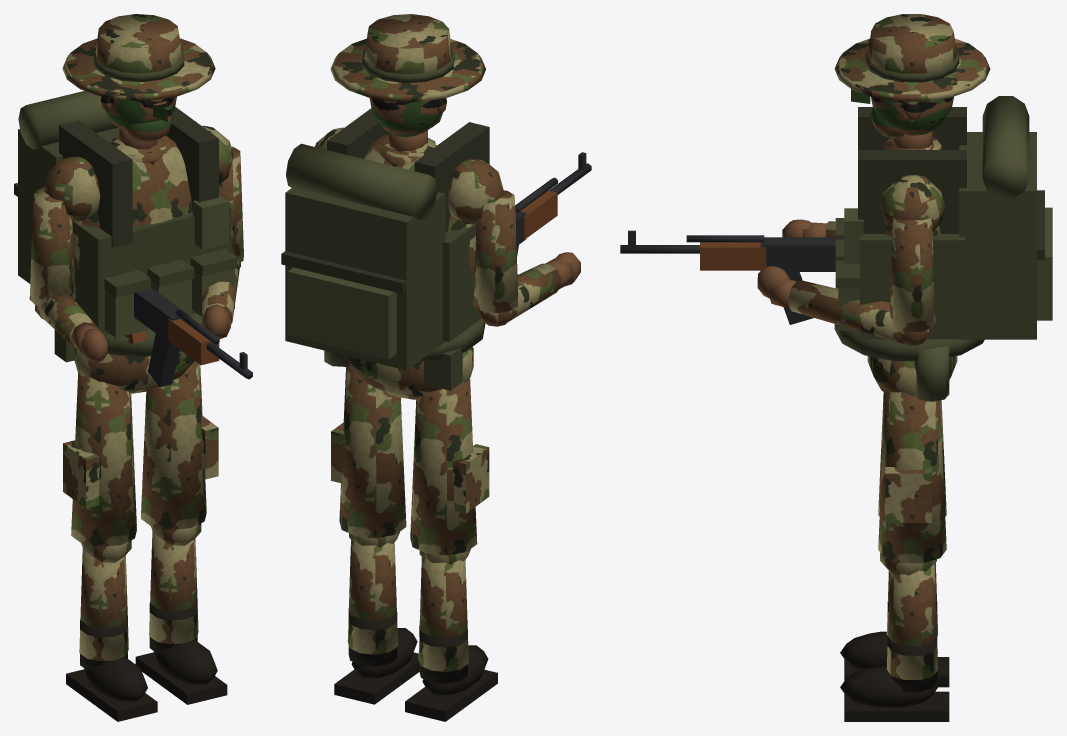
Rendered from soldier_sf.glb.
3 views of the same model, side by side, from view 1: azimuth 30°, elevation 25°; view 2: azimuth 150°, elevation 25°; view 3: azimuth 270°, elevation 25° (orthographic).
Parts seen in each view (by area): view 1: Torso, LegR, LegL, Head, ArmR, Rifle, Pelvis, ArmL; view 2: Torso, LegR, LegL, Head, ArmR, Pelvis, Rifle; view 3: Torso, LegL, Head, ArmL, Rifle, Pelvis, LegR, ArmR.
Part boxes in pixels (box(x1,y1,x2,y2)): Torso: box(14, 91, 237, 337); LegR: box(63, 372, 157, 721); LegL: box(135, 361, 227, 704); Head: box(62, 14, 215, 142); ArmR: box(29, 187, 107, 362); Rifle: box(125, 287, 252, 387); Pelvis: box(54, 313, 202, 393); ArmL: box(202, 146, 243, 338); Torso: box(281, 108, 504, 370); LegR: box(405, 378, 497, 721); LegL: box(331, 365, 419, 704); Head: box(330, 14, 485, 137); ArmR: box(473, 190, 580, 326); Pelvis: box(324, 319, 485, 399); Rifle: box(515, 152, 591, 256); Torso: box(835, 96, 1052, 339); LegL: box(840, 390, 949, 721); Head: box(834, 14, 990, 138); ArmL: box(757, 217, 935, 345); Rifle: box(620, 230, 835, 324); Pelvis: box(834, 324, 984, 401); LegR: box(840, 392, 949, 687); ArmR: box(782, 219, 835, 237).
Size of the model in its own units: 0.6448 by 1.88 by 1.11.
10 materials, 2 textured.
